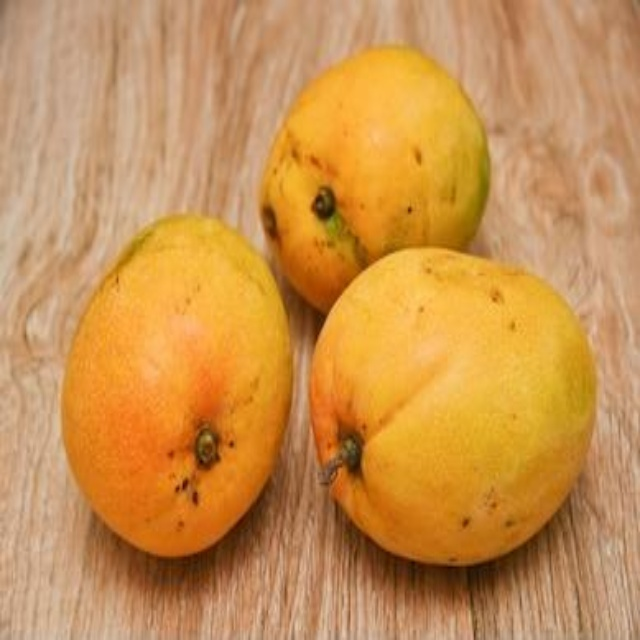mango: (311, 247, 597, 564), (62, 215, 286, 562), (257, 44, 498, 306)
